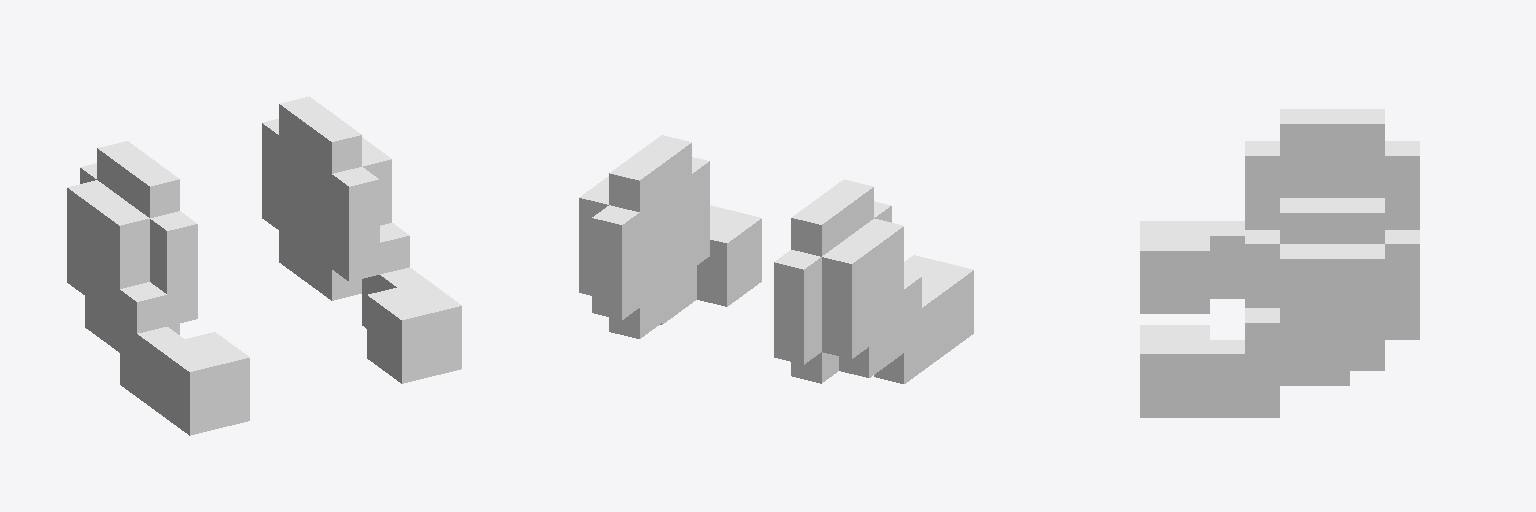
The model's file is ArmeBase.obj.
3 renders of one model, left to right at view 1: azimuth 30°, elevation 25°; view 2: azimuth 150°, elevation 25°; view 3: azimuth 270°, elevation 25°, orthographic.
Visible parts, largest first — view 1: object 1; view 2: object 1; view 3: object 1.
Part boxes in pixels (x1,y1,x2,y2): object 1: (67, 96, 461, 435); object 1: (579, 135, 973, 383); object 1: (1140, 109, 1419, 417).
Size of the model in its own units: 0.9 by 0.6 by 0.8.